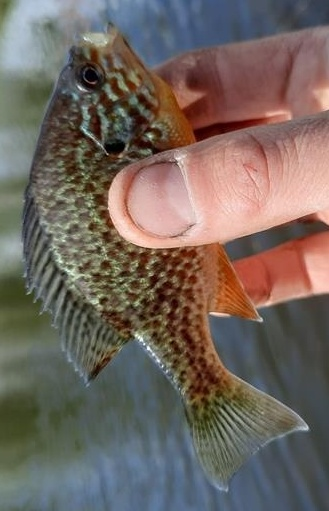Lepomis gibbosus: (20, 20, 309, 491)
